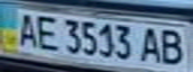1: (96, 20, 115, 58)
3: (112, 22, 139, 61), (57, 16, 81, 55)
5: (78, 19, 100, 56)
A: (136, 25, 166, 64), (12, 10, 42, 48)
B: (157, 26, 190, 66)
E: (30, 12, 63, 52)
